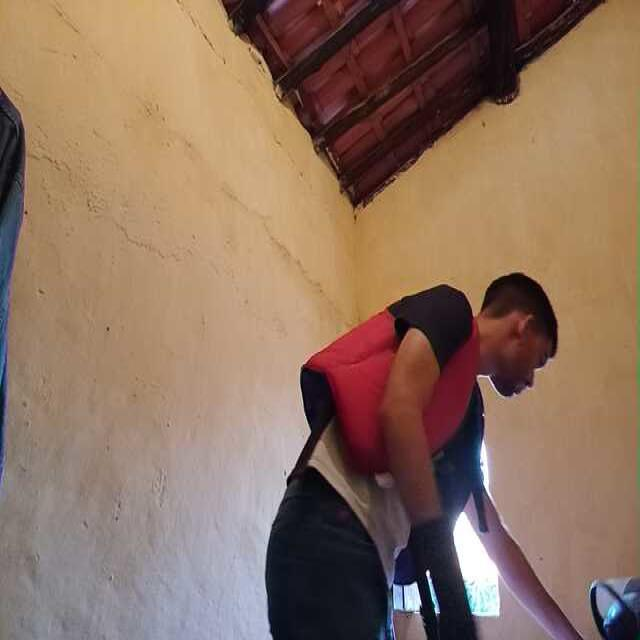capacete: (578, 562, 640, 640)
colete: (298, 283, 482, 463)
pessoa: (265, 261, 587, 640)
